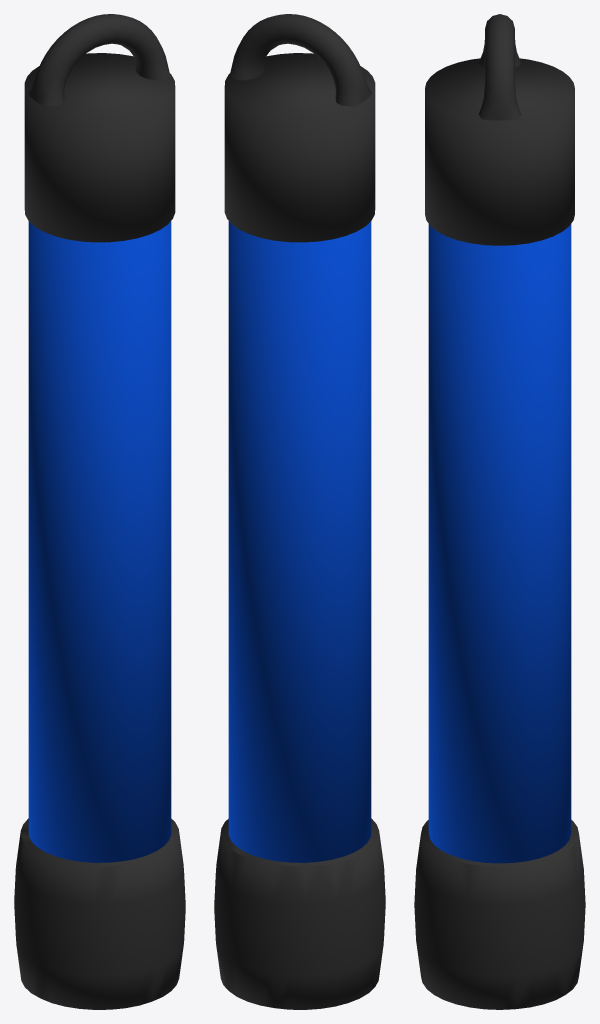
File: 1000glow.fbx
3 renders of one model, left to right at view 1: azimuth 30°, elevation 25°; view 2: azimuth 150°, elevation 25°; view 3: azimuth 270°, elevation 25°, orthographic.
Parts seen in each view (by area): view 1: Cylinder.001; view 2: Cylinder.001; view 3: Cylinder.001.
Part boxes in pixels (box(x1,y1,x2,y2)): Cylinder.001: box(14, 14, 185, 1009); Cylinder.001: box(214, 14, 385, 1009); Cylinder.001: box(414, 14, 585, 1009).
Bounding box in the file's own units: 217 × 1333 × 217.
